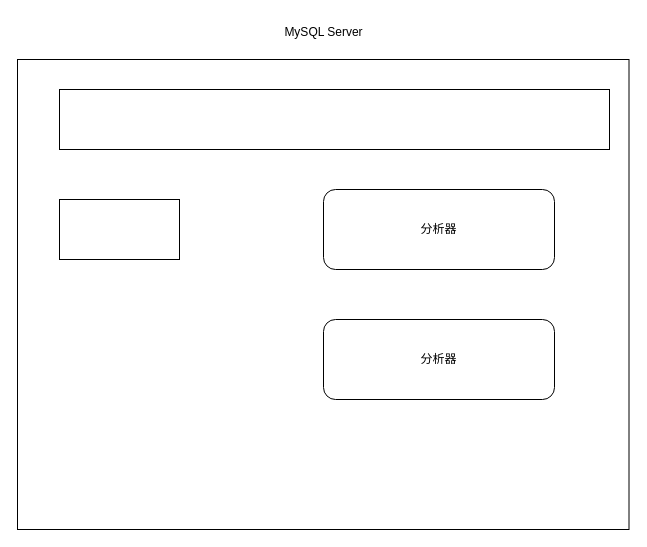
The diagram is 647 pixels wide and 547 high, and some of its shapes have lost their labels. The centre of each missing label's shape, as x and y in pixels:
"查询缓存" goes at [119,229].
"连接器" goes at [334,119].
